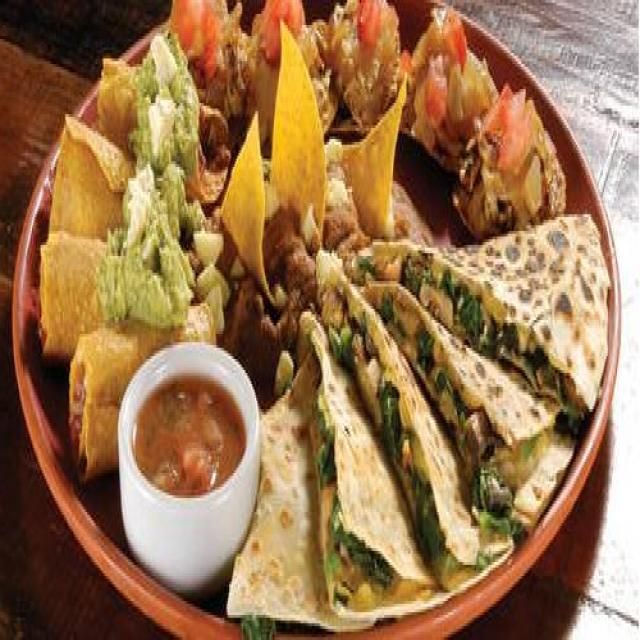Spring Rolls: (36, 78, 228, 479)
